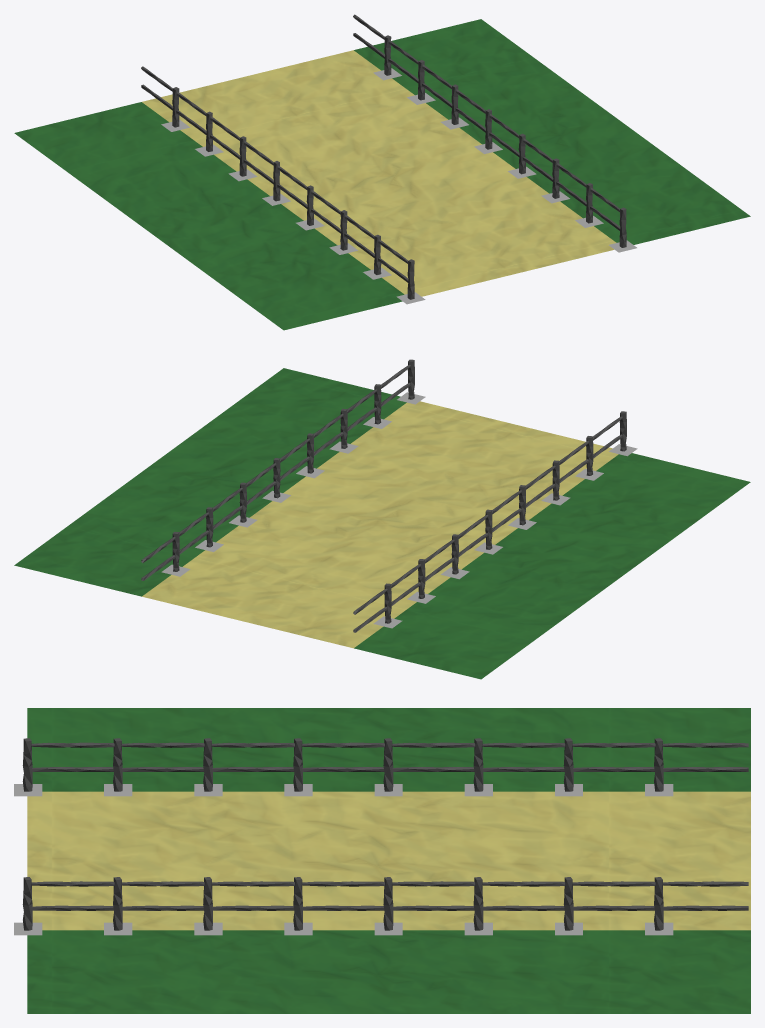
The model's file is level_01.fbx.
The picture shows the model from 3 angles, top to bottom: view 1: azimuth 30°, elevation 25°; view 2: azimuth 150°, elevation 25°; view 3: azimuth 270°, elevation 25°; orthographic projection. The views are drawn at different scales.
Visible parts, largest first — view 1: railing_parts_5; view 2: railing_parts_5; view 3: railing_parts_5.
Part boxes in pixels (x1,y1,x2,y2): railing_parts_5: (14, 14, 750, 330); railing_parts_5: (14, 359, 750, 679); railing_parts_5: (14, 708, 750, 1013).
Size of the model in its own units: 300 by 23.7 by 306.
